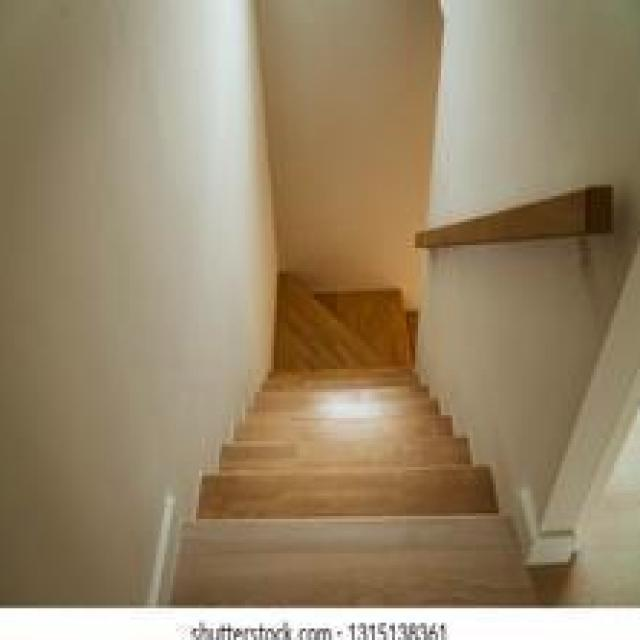downstair: (183, 350, 500, 534)
